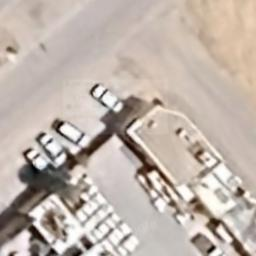SUV: (53, 118, 92, 150)
sedan: (36, 132, 70, 169), (89, 82, 125, 116), (25, 147, 54, 181)
